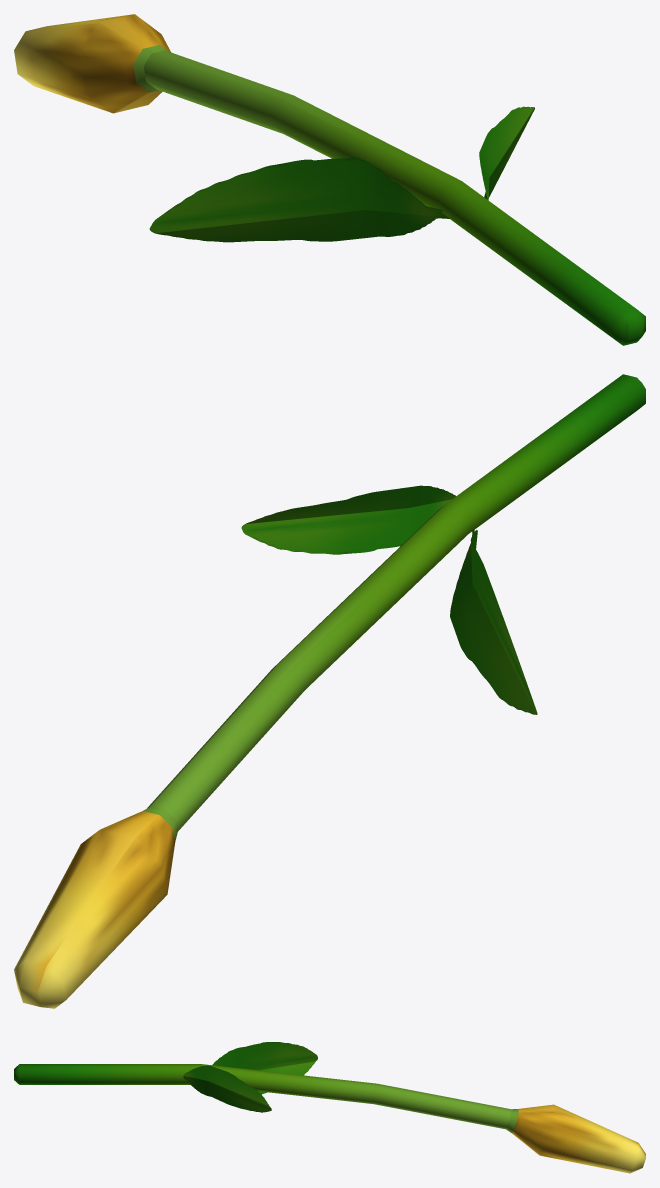
File: SM_Lilly_Yellow_Closed.fbx
The picture shows the model from 3 angles, top to bottom: view 1: azimuth 30°, elevation 25°; view 2: azimuth 150°, elevation 25°; view 3: azimuth 270°, elevation 25°; orthographic projection. The views are drawn at different scales.
Visible parts, largest first — view 1: Lilly_Yellow_Closed; view 2: Lilly_Yellow_Closed; view 3: Lilly_Yellow_Closed.
Boxes of the visible parts, box(x1,y1,x2,y2) form: Lilly_Yellow_Closed: box(14, 14, 645, 345); Lilly_Yellow_Closed: box(14, 374, 645, 1008); Lilly_Yellow_Closed: box(14, 1042, 645, 1173).
Size of the model in its own units: 22.72 by 13.99 by 66.1.
